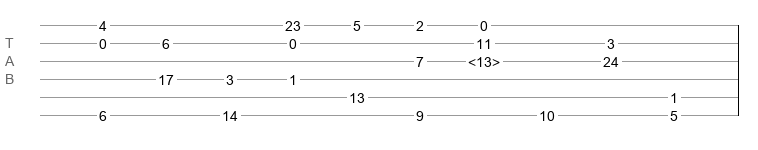0: (99, 36, 107, 46), (289, 36, 297, 46), (480, 18, 488, 28)
1: (289, 72, 297, 82), (670, 90, 678, 100)
10: (539, 108, 555, 118)
11: (476, 36, 492, 46)
13: (349, 90, 365, 100)
14: (222, 108, 238, 118)
17: (158, 72, 174, 82)
2: (416, 18, 424, 28)
23: (285, 18, 301, 28)
24: (603, 54, 619, 64)
3: (226, 72, 234, 82), (607, 36, 615, 46)
4: (99, 18, 107, 28)
5: (353, 18, 361, 28), (670, 108, 678, 118)
6: (99, 108, 107, 118), (162, 36, 170, 46)
7: (416, 54, 424, 64)
9: (416, 108, 424, 118)
harmonic: (468, 54, 500, 64)
